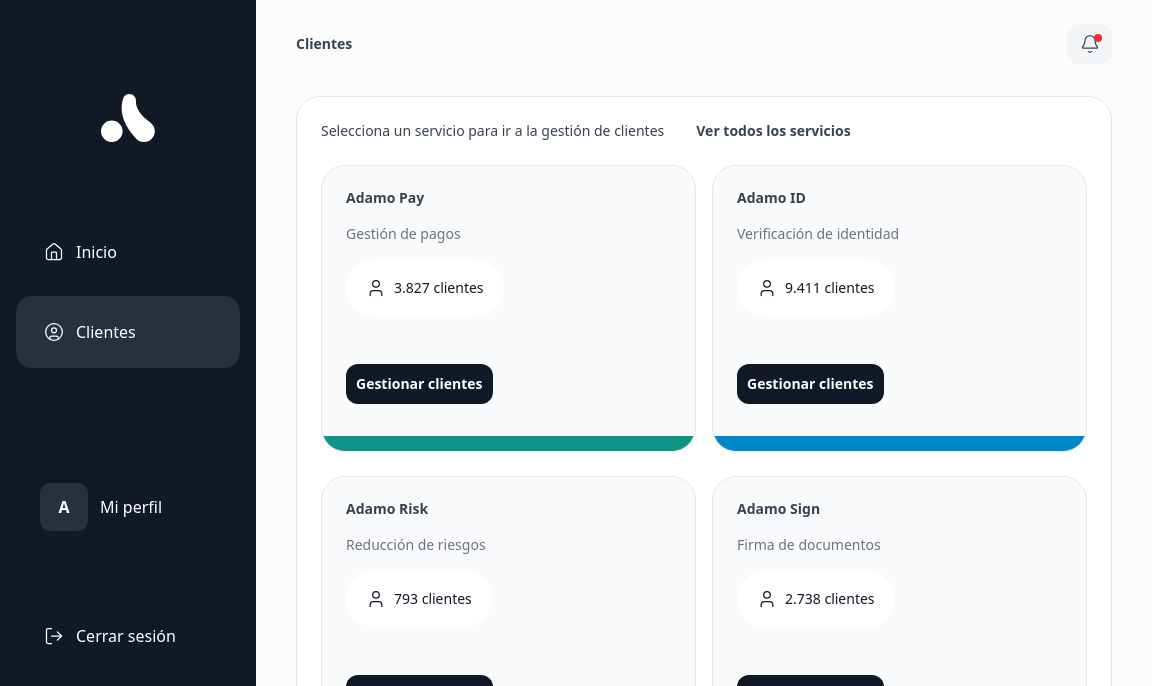
Test case: HomePage › navegación › desde Clientes, "Inicio" del menú vuelve aquí
The width and height of the screenshot is (1152, 686).
Expected: the heading "Clientes" is shown, [296,34,352,54]
What coordinates should you click on to do the following:
click the link "Inicio"
I would click on:
 (80, 252)
Its box is [44,241,117,263].
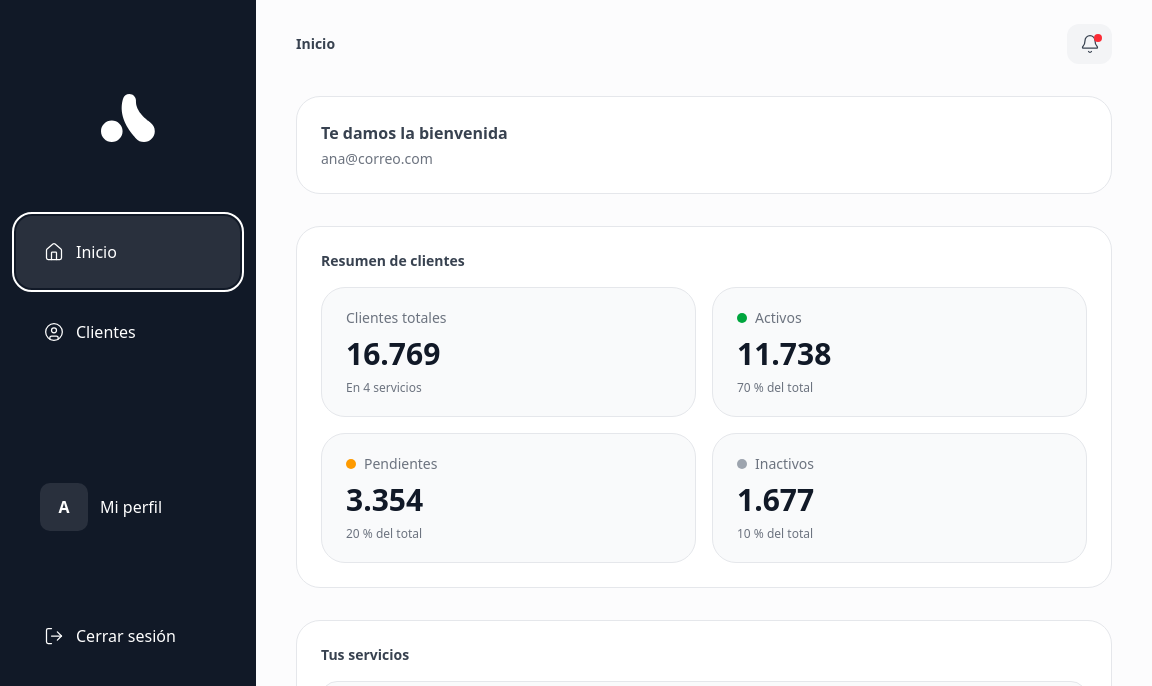
Result: the element "Clientes totales" is shown at [321,287,696,417]
